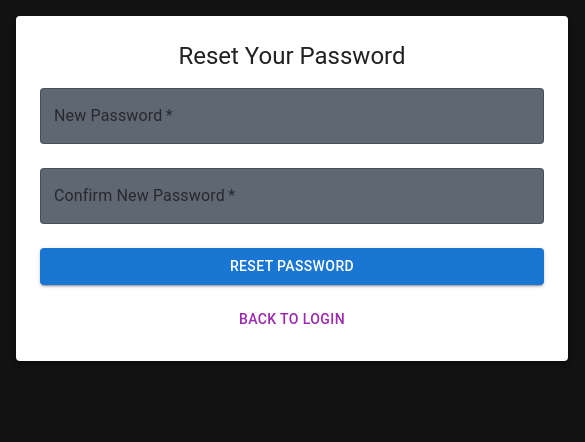
ResetPassword Component › shows error when password is too short
Type short password
Type "short" into the password field labelled "New Password *".
click(292, 116); type("short")  # box [40,88,544,144]
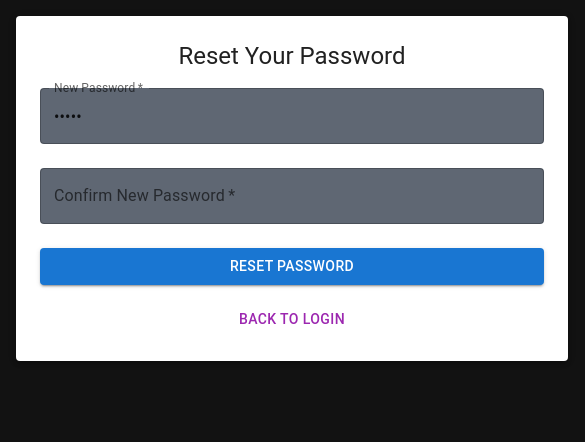
Type "short" into the password field labelled "Confirm New Password *".
click(292, 196); type("short")  # box [40,168,544,224]
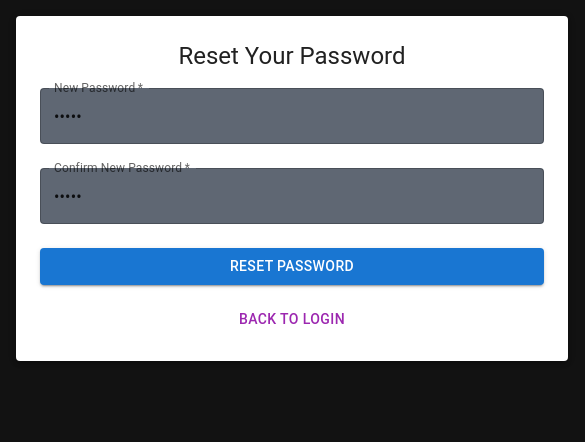
Submit the form
Click the button "Reset Password".
click(292, 266)  # box [40,248,544,284]
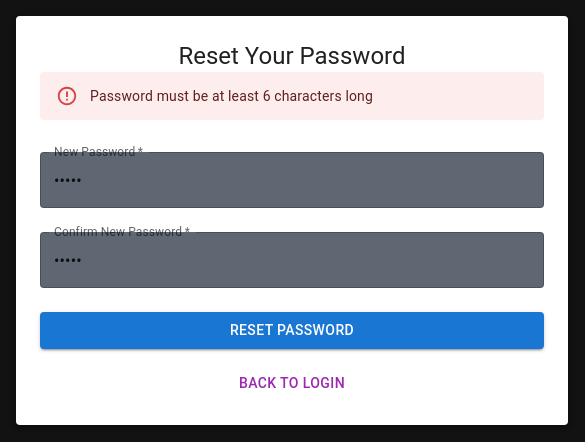
Expected: the text "Password must be at least 6 characters long" is shown, [90,88,373,104]
